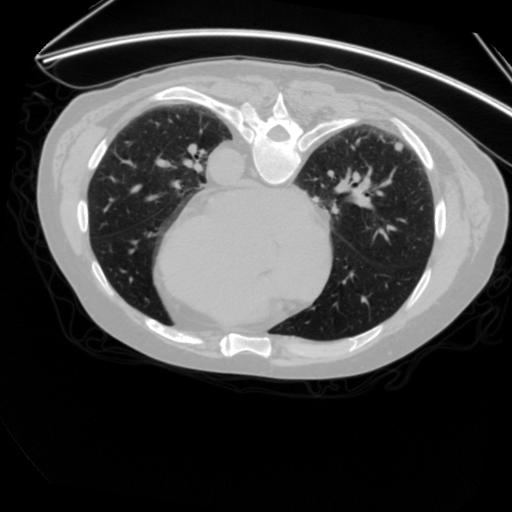nodule: (391, 139, 407, 155)
